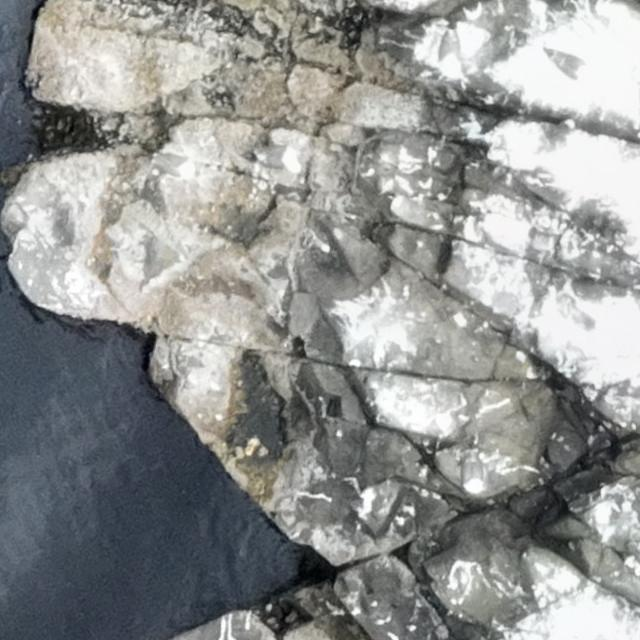umineko: (545, 46, 591, 82), (252, 144, 302, 171), (463, 451, 486, 495)
